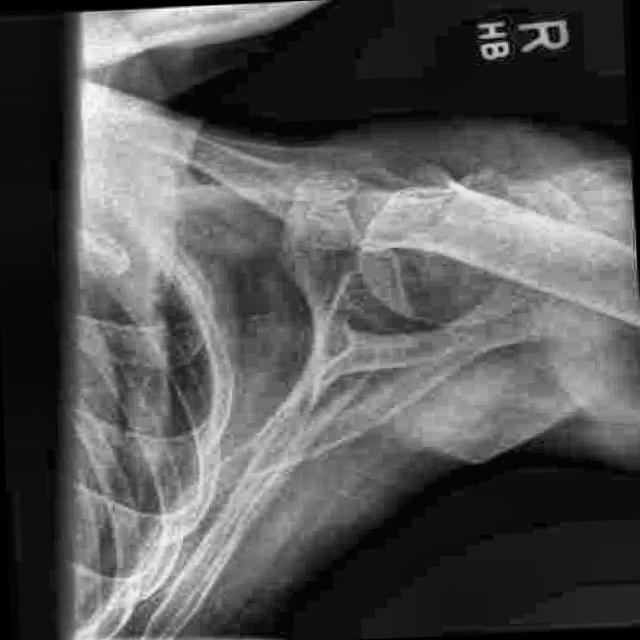shoulder fracture: (294, 145, 493, 267)
